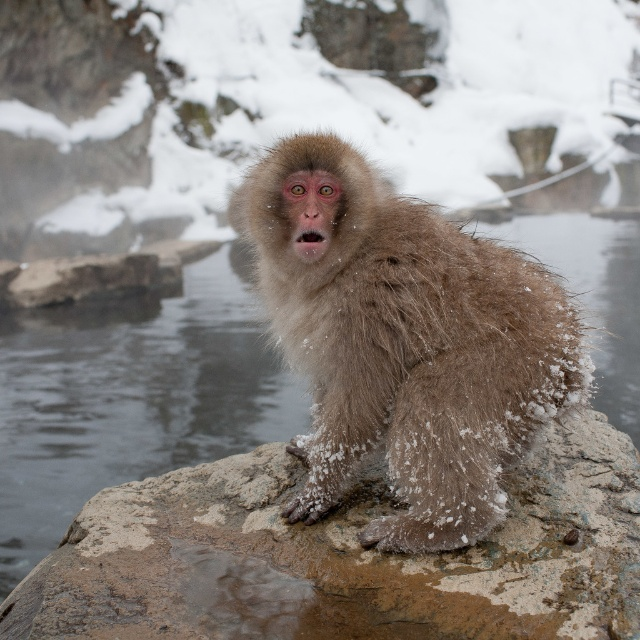Monkey: (240, 134, 586, 555)
